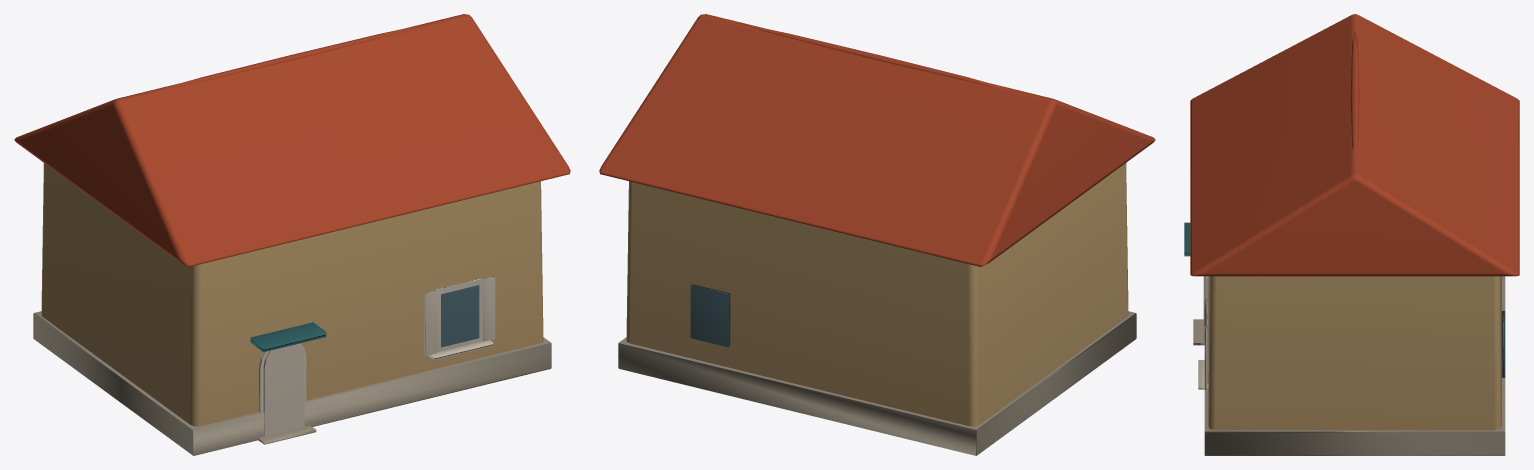
File: house_14.glb
3 renders of one model, left to right at view 1: azimuth 30°, elevation 25°; view 2: azimuth 150°, elevation 25°; view 3: azimuth 270°, elevation 25°, orthographic. The views are drawn at different scales.
Visible parts, largest first — view 1: house_14; view 2: house_14; view 3: house_14.
Part boxes in pixels (bbox=[...]): house_14: bbox=[14, 14, 570, 455]; house_14: bbox=[599, 14, 1155, 455]; house_14: bbox=[1184, 14, 1519, 455].
Bounding box in the file's own units: 9.29 × 6.87 × 7.37.
